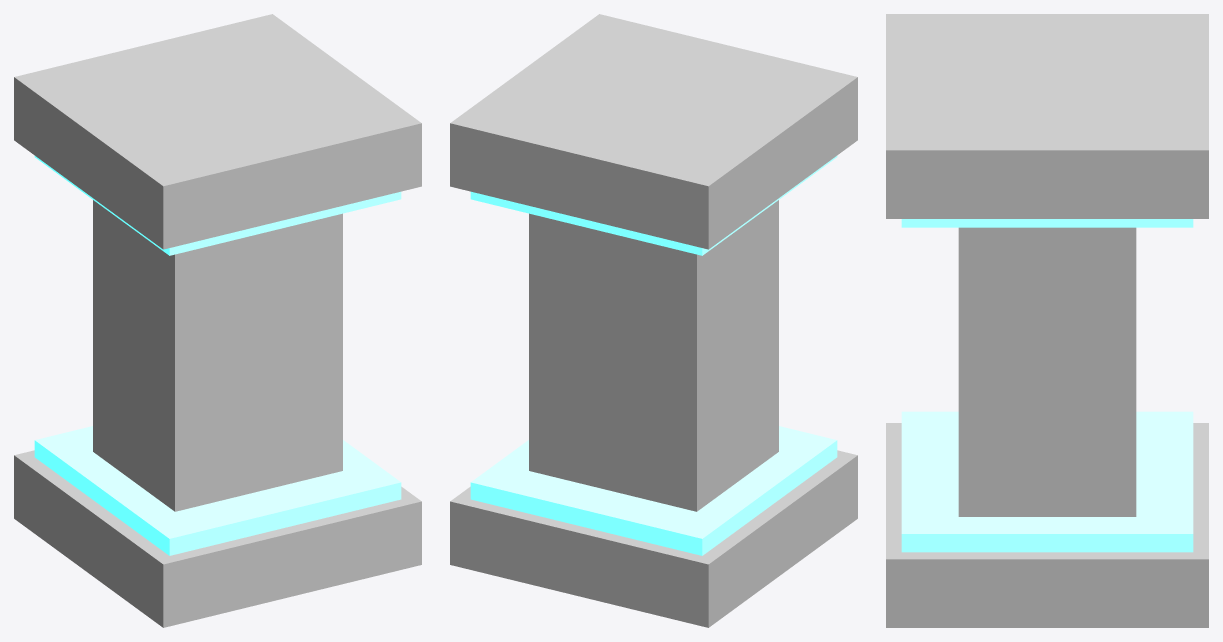
File: pedestal.glb
The picture shows the model from 3 angles, left to right: view 1: azimuth 30°, elevation 25°; view 2: azimuth 150°, elevation 25°; view 3: azimuth 270°, elevation 25°; orthographic projection. The views are drawn at different scales.
Parts seen in each view (by area): view 1: Cube.001, Cube.003, Cube.002, Cube.004, Cube; view 2: Cube.001, Cube.003, Cube.002, Cube.004, Cube; view 3: Cube.003, Cube.001, Cube.002, Cube.004, Cube.
Boxes of the visible parts, x1,y1,x2,y2 form: Cube.001: (93, 200, 342, 511); Cube.003: (14, 14, 421, 249); Cube.002: (14, 450, 421, 627); Cube.004: (34, 426, 401, 555); Cube: (34, 156, 401, 255); Cube.001: (529, 200, 778, 511); Cube.003: (450, 14, 857, 249); Cube.002: (450, 450, 857, 627); Cube.004: (470, 426, 837, 555); Cube: (470, 156, 837, 255); Cube.003: (886, 14, 1208, 218); Cube.001: (958, 227, 1136, 516); Cube.002: (886, 423, 1208, 627); Cube.004: (901, 411, 1193, 552); Cube: (901, 219, 1193, 227).
Size of the model in its own units: 1.82 by 2.96 by 1.82.
